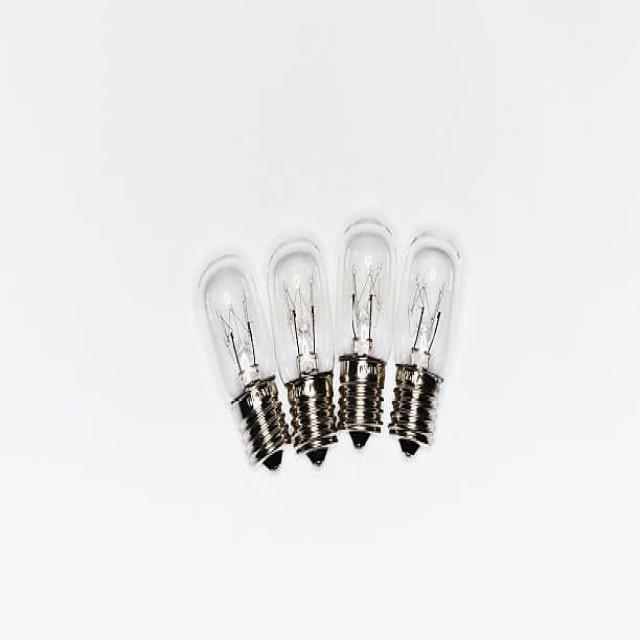electronic: (196, 213, 463, 472), (196, 252, 290, 470), (388, 229, 461, 458), (264, 234, 336, 466), (335, 215, 397, 453)
